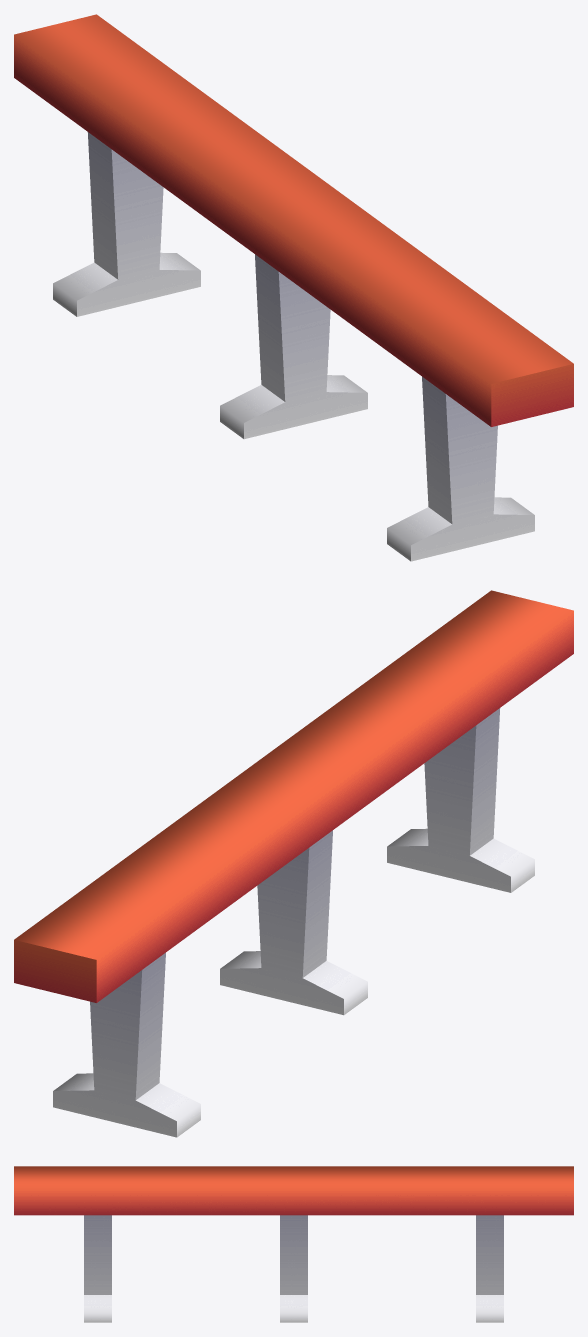
File: rail-low.glb
3 views of the same model, one above another, from view 1: azimuth 30°, elevation 25°; view 2: azimuth 150°, elevation 25°; view 3: azimuth 270°, elevation 25° (orthographic). The views are drawn at different scales.
Visible parts, largest first — view 1: rail-low; view 2: rail-low; view 3: rail-low.
Boxes of the visible parts, x1=… form: rail-low: x1=14, y1=14, x2=573, y2=561; rail-low: x1=14, y1=590, x2=573, y2=1137; rail-low: x1=14, y1=1166, x2=573, y2=1322.
Size of the model in its own units: 0.15 by 0.25 by 1.
Materials: 1 (1 with a texture image).
